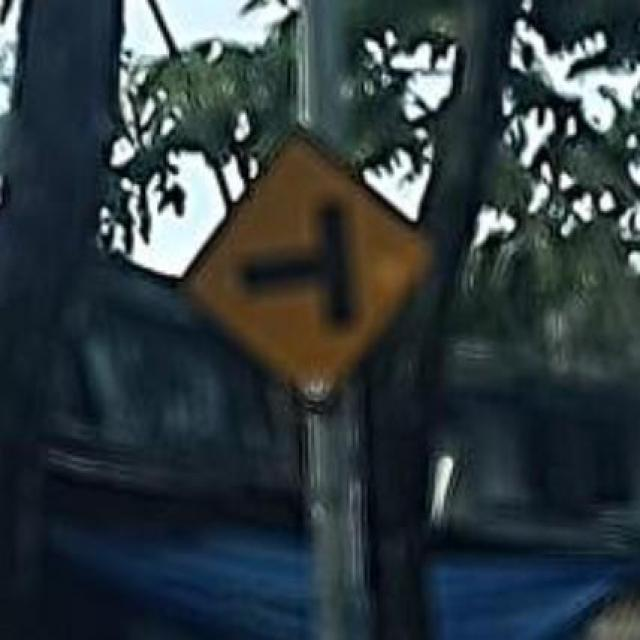traffic sign: (201, 135, 433, 402)
